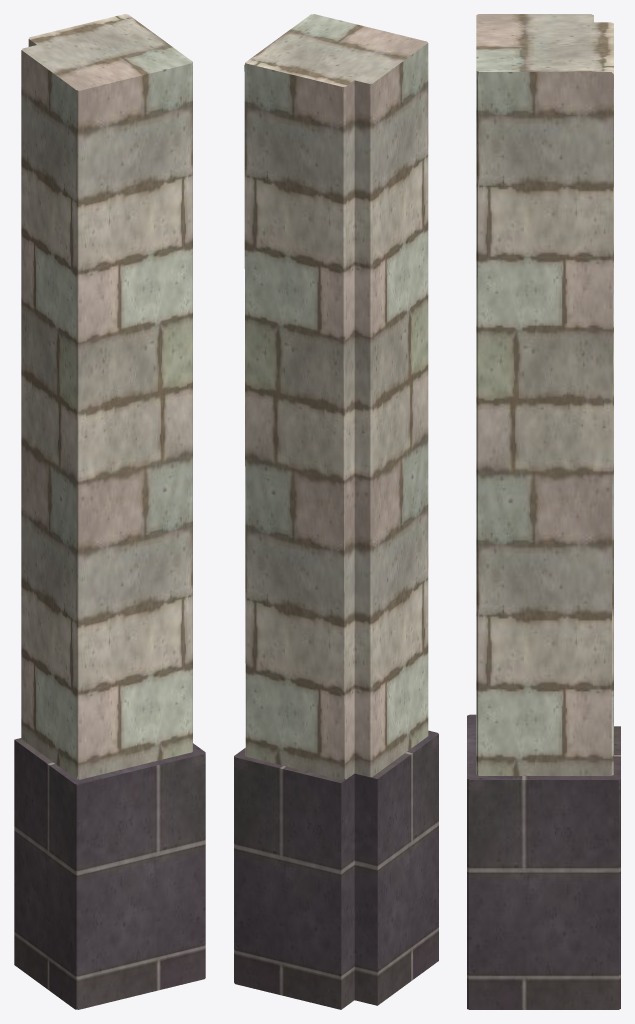
The model's file is corner_g.glb.
3 renders of one model, left to right at view 1: azimuth 30°, elevation 25°; view 2: azimuth 150°, elevation 25°; view 3: azimuth 270°, elevation 25°, orthographic. The views are drawn at different scales.
Visible parts, largest first — view 1: corner_g_stone, corner_g_granite; view 2: corner_g_stone, corner_g_granite; view 3: corner_g_stone, corner_g_granite.
Boxes of the visible parts, x1,y1,x2,y2 form: corner_g_stone: (21,14,192,779); corner_g_granite: (14,738,205,1009); corner_g_stone: (244,14,428,780); corner_g_granite: (234,730,438,1009); corner_g_stone: (476,14,613,775); corner_g_granite: (467,714,620,1009).
Size of the model in its own units: 0.65 by 4.35 by 0.65.
2 materials, 2 textured.
